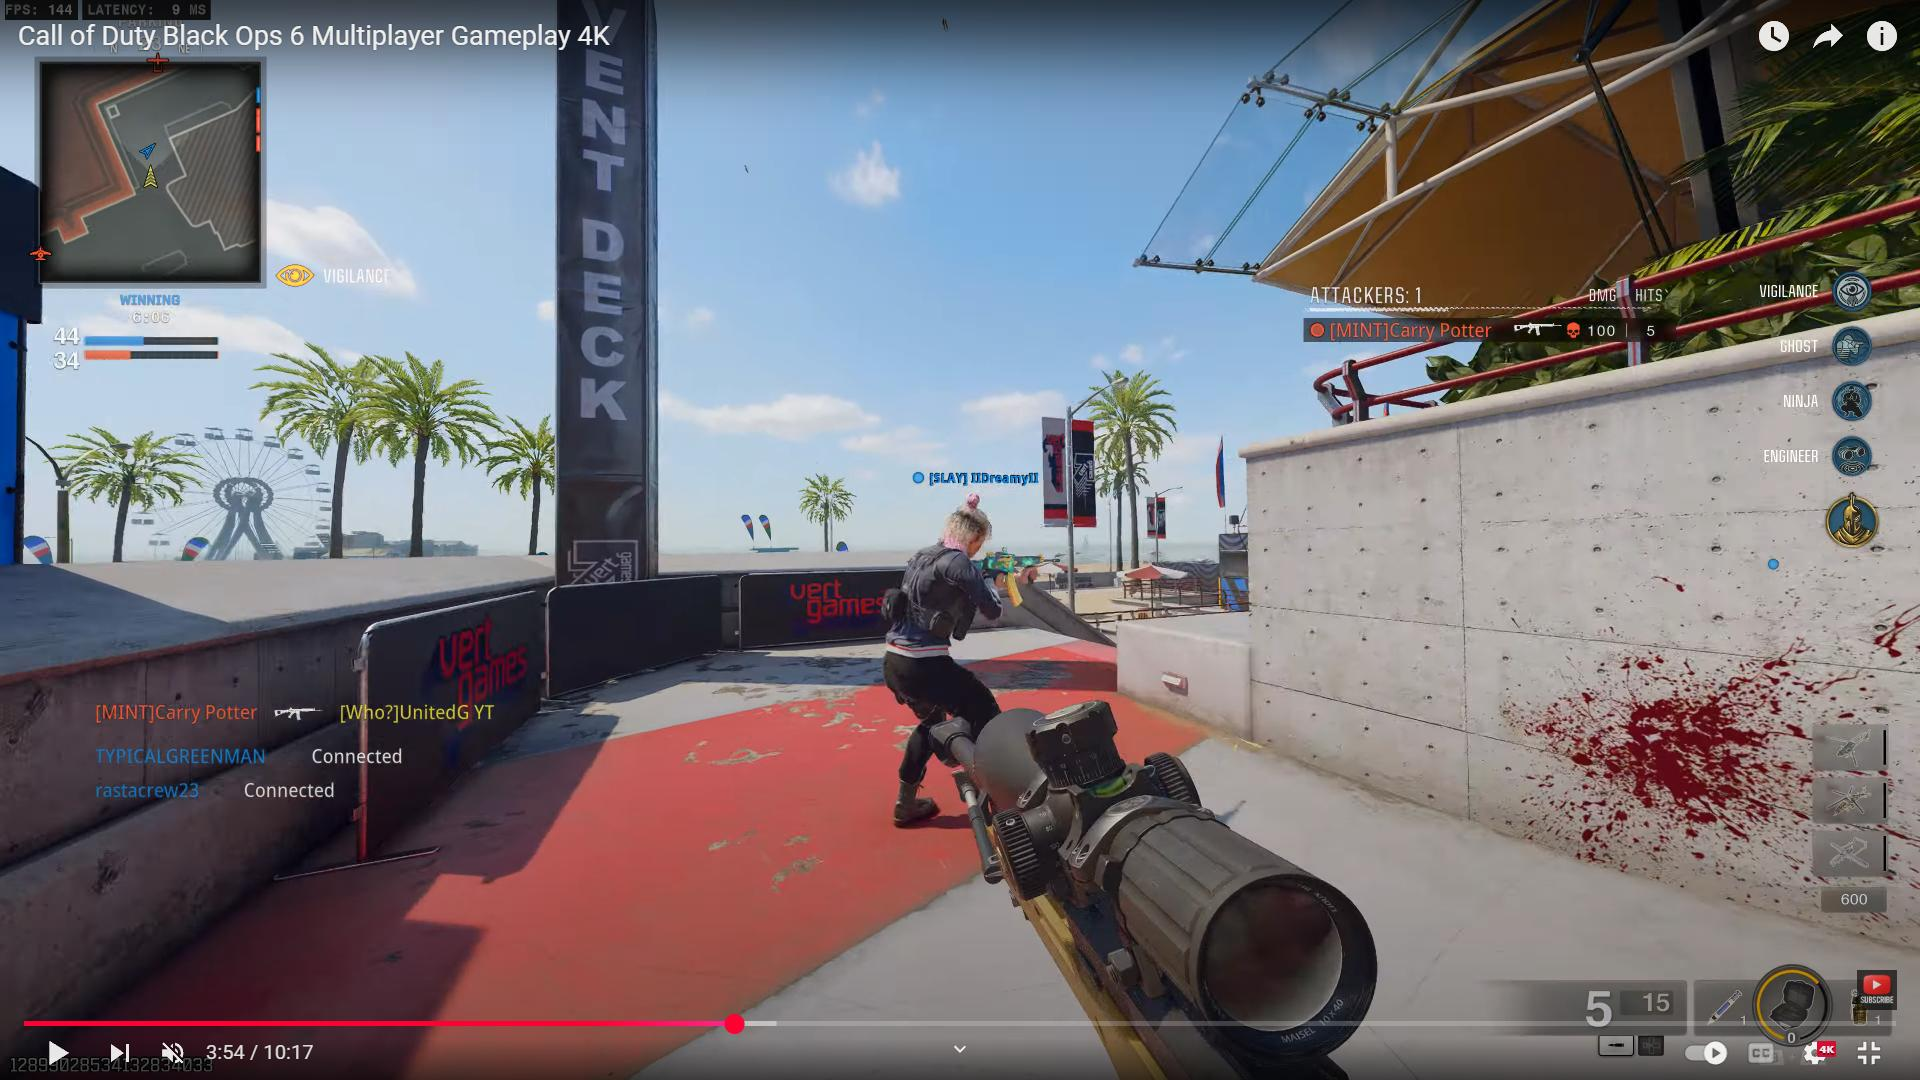Enemy: (894, 497, 1007, 705)
